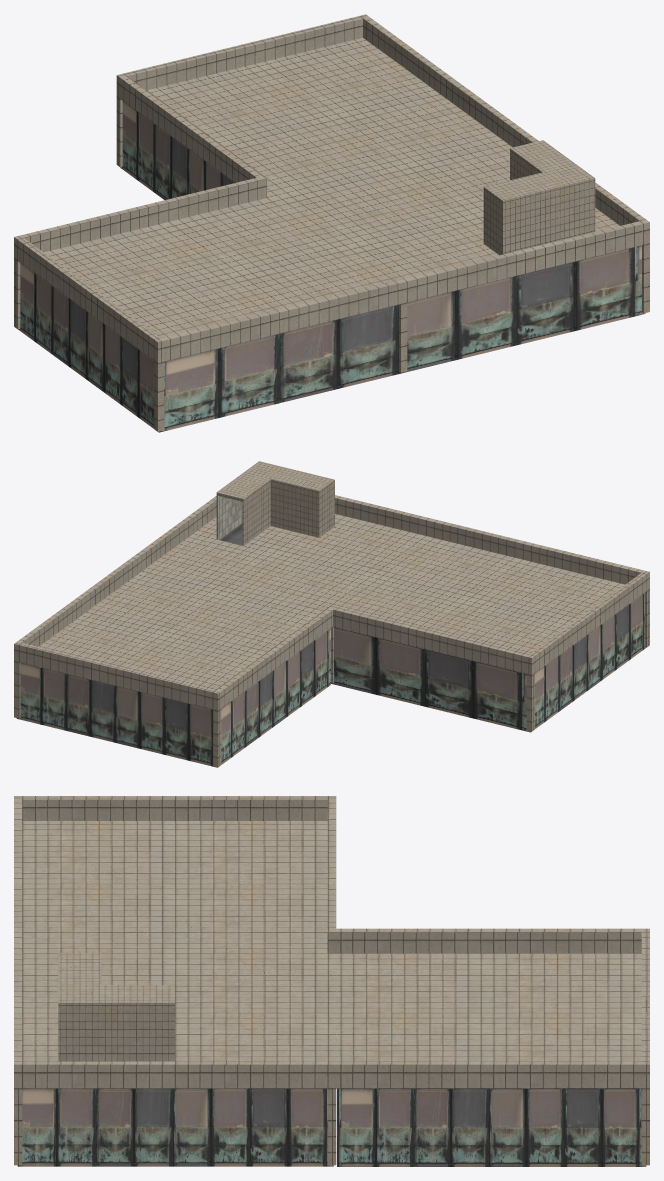
Rendered from BagSS09top_200.fbx.
The picture shows the model from 3 angles, top to bottom: view 1: azimuth 30°, elevation 25°; view 2: azimuth 150°, elevation 25°; view 3: azimuth 270°, elevation 25°; orthographic projection. The views are drawn at different scales.
Visible parts, largest first — view 1: topCrete200, topBox200; view 2: topCrete200, topBox200, topStairWell200; view 3: topCrete200, topBox200.
Part boxes in pixels (box(x1,y1,x2,y2)): topCrete200: box(14, 14, 649, 431); topBox200: box(18, 101, 645, 432); topCrete200: box(14, 461, 649, 766); topBox200: box(16, 524, 646, 767); topStairWell200: box(218, 496, 242, 539); topCrete200: box(14, 796, 649, 1165); topBox200: box(17, 1088, 646, 1166).
Bounding box in the file's own units: 40.92 × 10.35 × 40.92.
